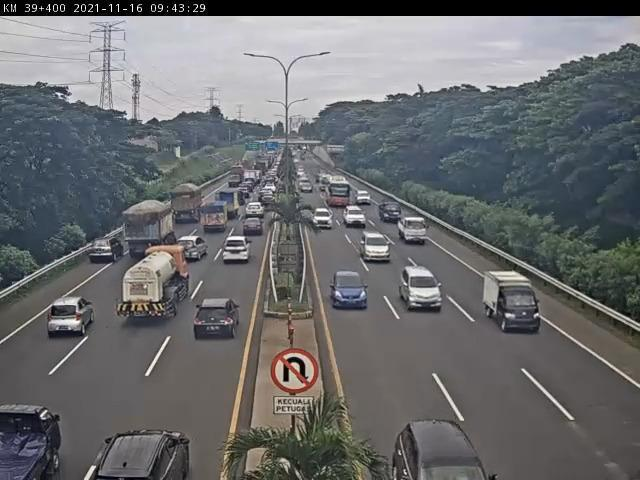car: (47, 296, 96, 339), (402, 266, 445, 312), (194, 300, 241, 342), (334, 272, 369, 311), (89, 236, 127, 267), (361, 233, 391, 266), (222, 237, 252, 270), (176, 236, 210, 262), (341, 201, 363, 225), (312, 205, 335, 227), (243, 217, 265, 239)
truck: (115, 246, 191, 325), (483, 269, 541, 335), (123, 201, 176, 262), (172, 184, 207, 224), (201, 200, 230, 234), (393, 213, 425, 242), (375, 199, 400, 220)
